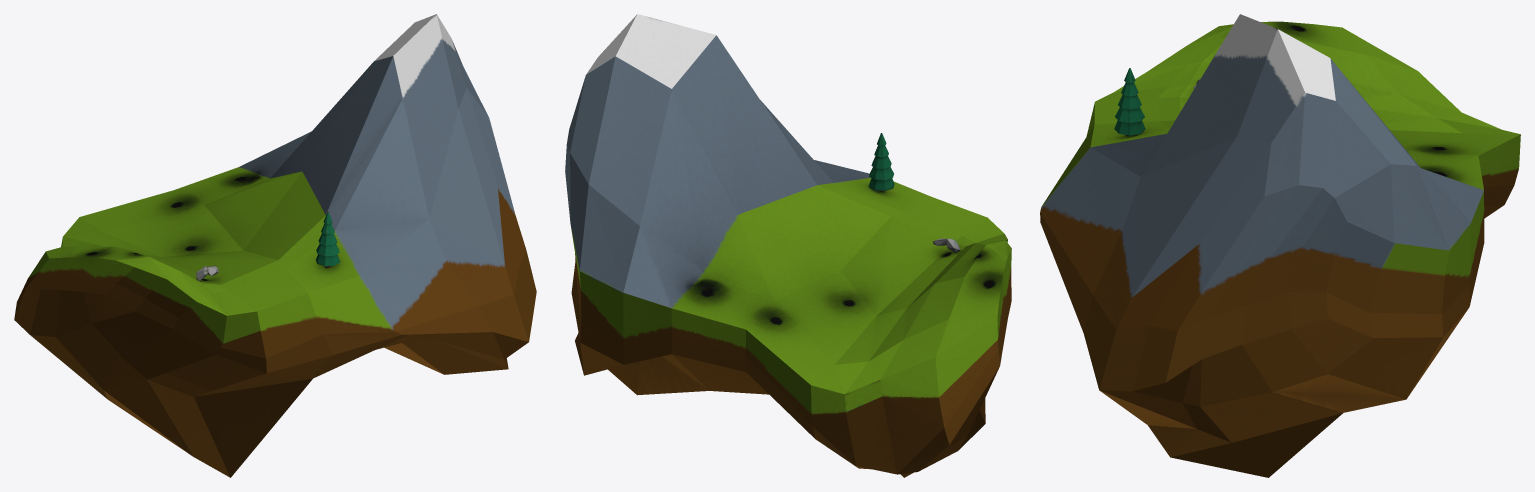
Rendered from NoTree1.fbx.
3 views of the same model, side by side, from view 1: azimuth 30°, elevation 25°; view 2: azimuth 150°, elevation 25°; view 3: azimuth 270°, elevation 25° (orthographic). The views are drawn at different scales.
Visible parts, largest first — view 1: Island1.005; view 2: Island1.005; view 3: Island1.005.
Boxes of the visible parts, x1,y1,x2,y2 form: Island1.005: [14, 14, 536, 477]; Island1.005: [565, 14, 1011, 477]; Island1.005: [1040, 14, 1520, 477].
Bounding box in the file's own units: 3.39 × 2.96 × 2.64.
